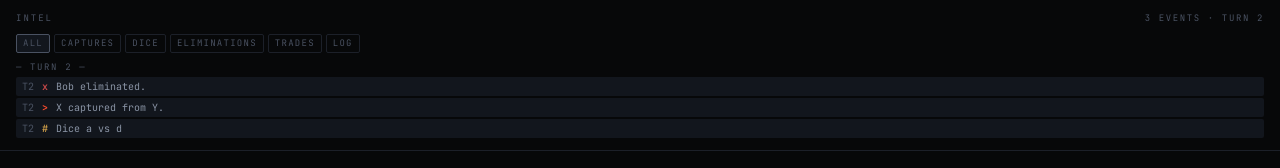
Scenario: IntelPanel › clicking a non-all chip narrows to that category
Click the button with aria-label "filter-capture". click: (88, 43)
box: [54,34,121,53]
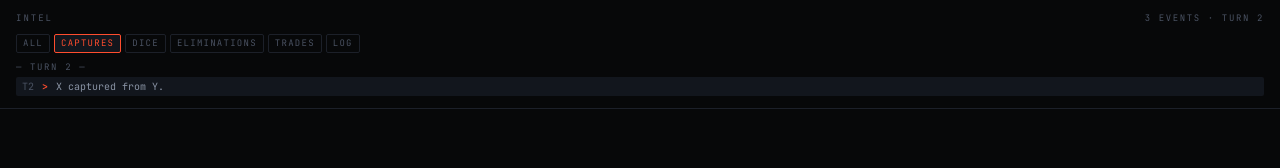
Expected: the number of list items is 1, [16,76,1264,96]
